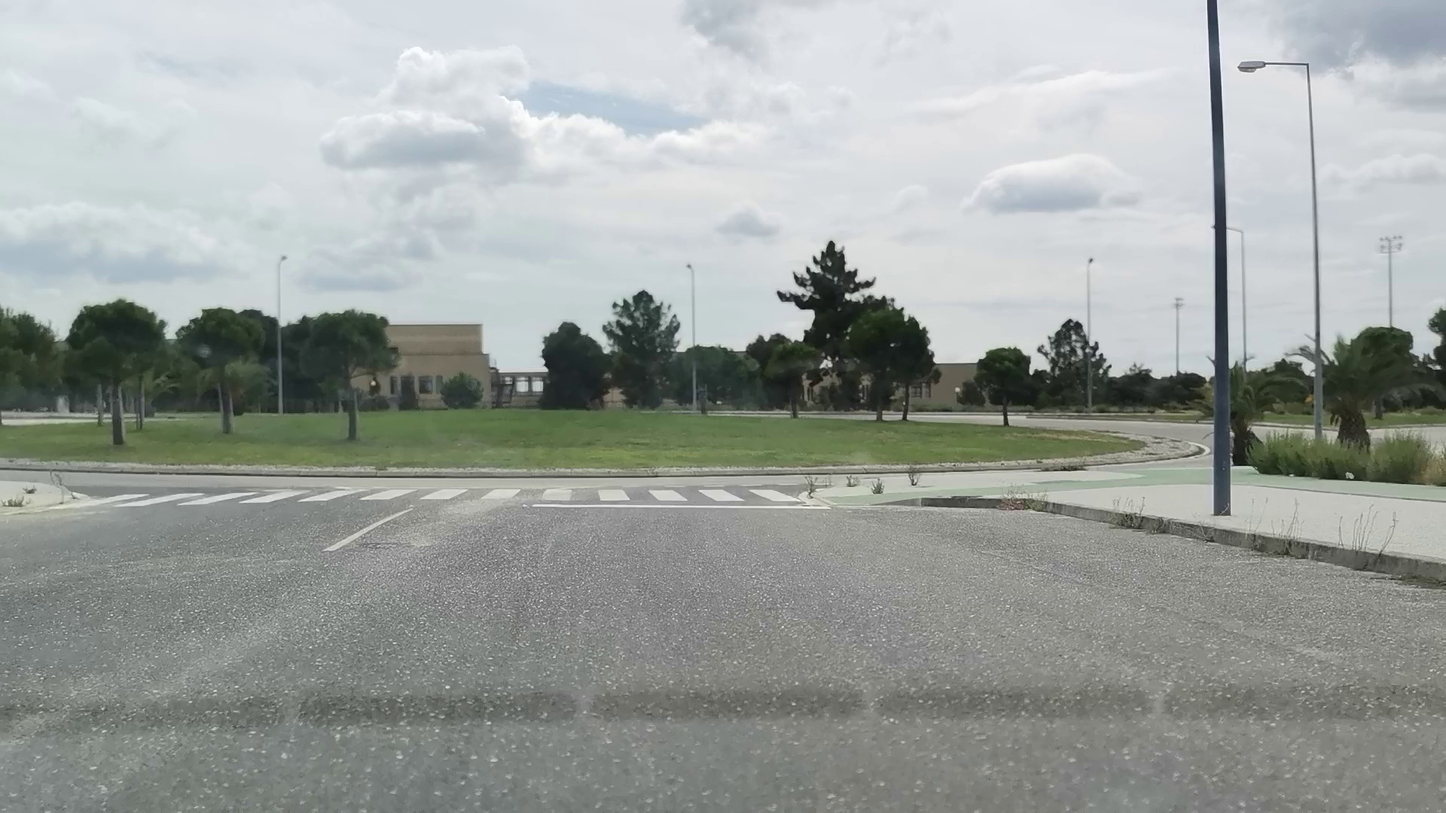Stairs: (53, 487, 805, 508)
